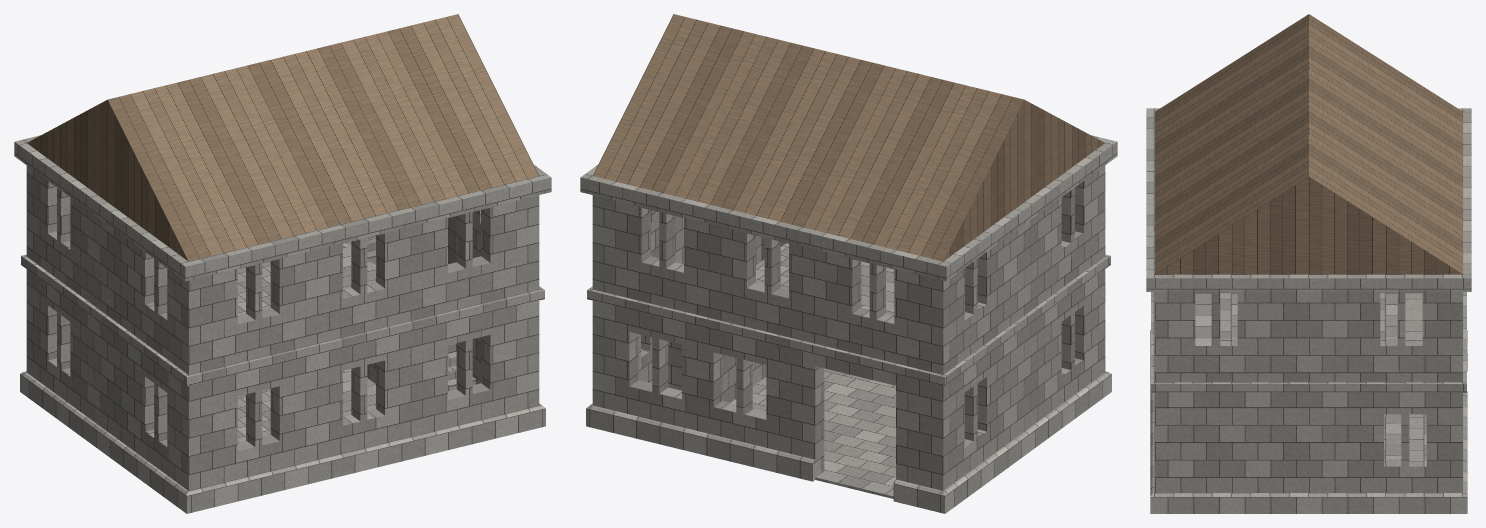
File: tavern.glb
3 views of the same model, side by side, from view 1: azimuth 30°, elevation 25°; view 2: azimuth 150°, elevation 25°; view 3: azimuth 270°, elevation 25° (orthographic). The views are drawn at different scales.
Parts seen in each view (by area): view 1: body_stone, roof_timber, trim_stone; view 2: body_stone, roof_timber, trim_stone; view 3: roof_timber, body_stone, trim_stone.
Boxes of the visible parts, <box> form: body_stone: <box>26,165,539,490</box>; roof_timber: <box>27,14,538,261</box>; trim_stone: <box>14,135,551,513</box>; body_stone: <box>592,165,1105,498</box>; roof_timber: <box>593,14,1104,261</box>; trim_stone: <box>580,135,1117,513</box>; roof_timber: <box>1155,14,1462,274</box>; body_stone: <box>1155,292,1462,492</box>; trim_stone: <box>1146,108,1471,513</box>.
Bounding box in the file's own units: 10.44 × 9.6 × 8.44.
3 materials, 3 textured.
